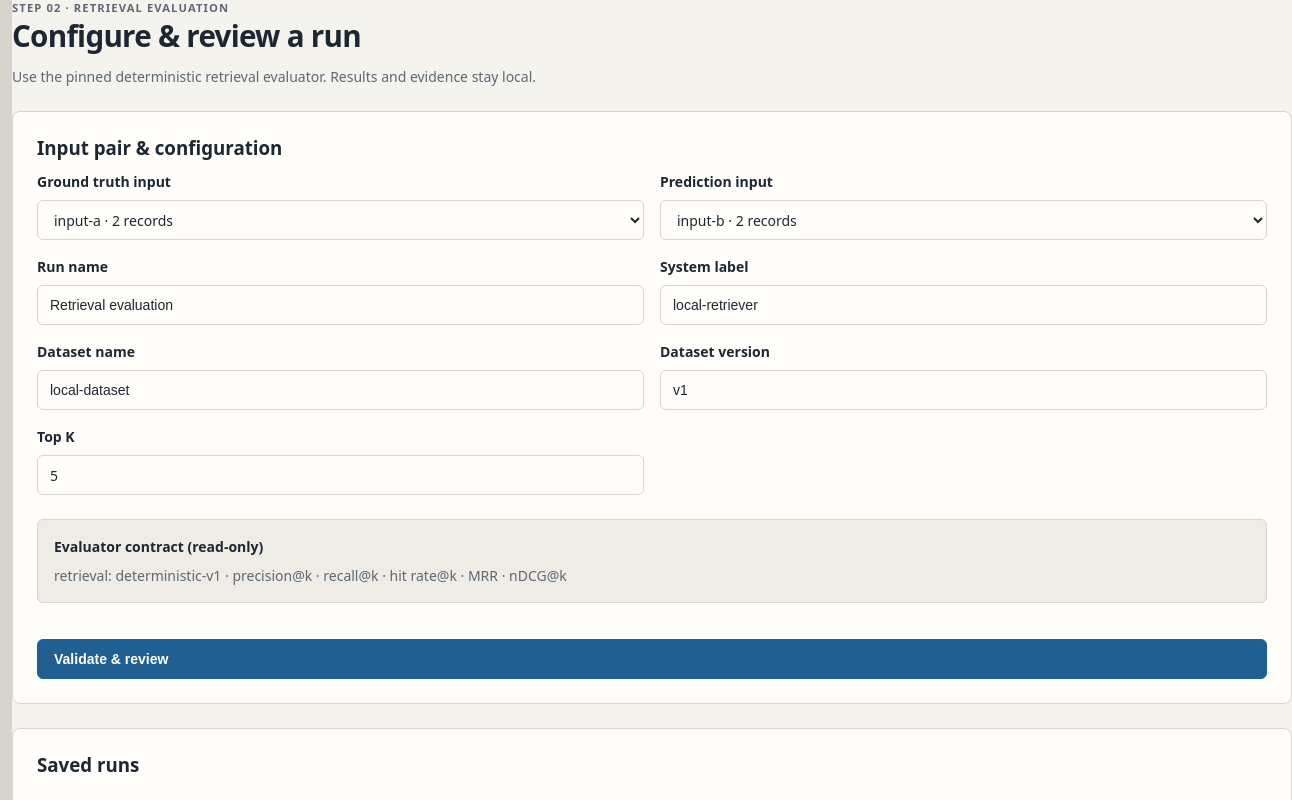
Constrained run review › does not permit execution when pair validation contains blockers
Click the button "Validate & review".
click(111, 659)  # box [37,639,1267,679]
(page scrolled)
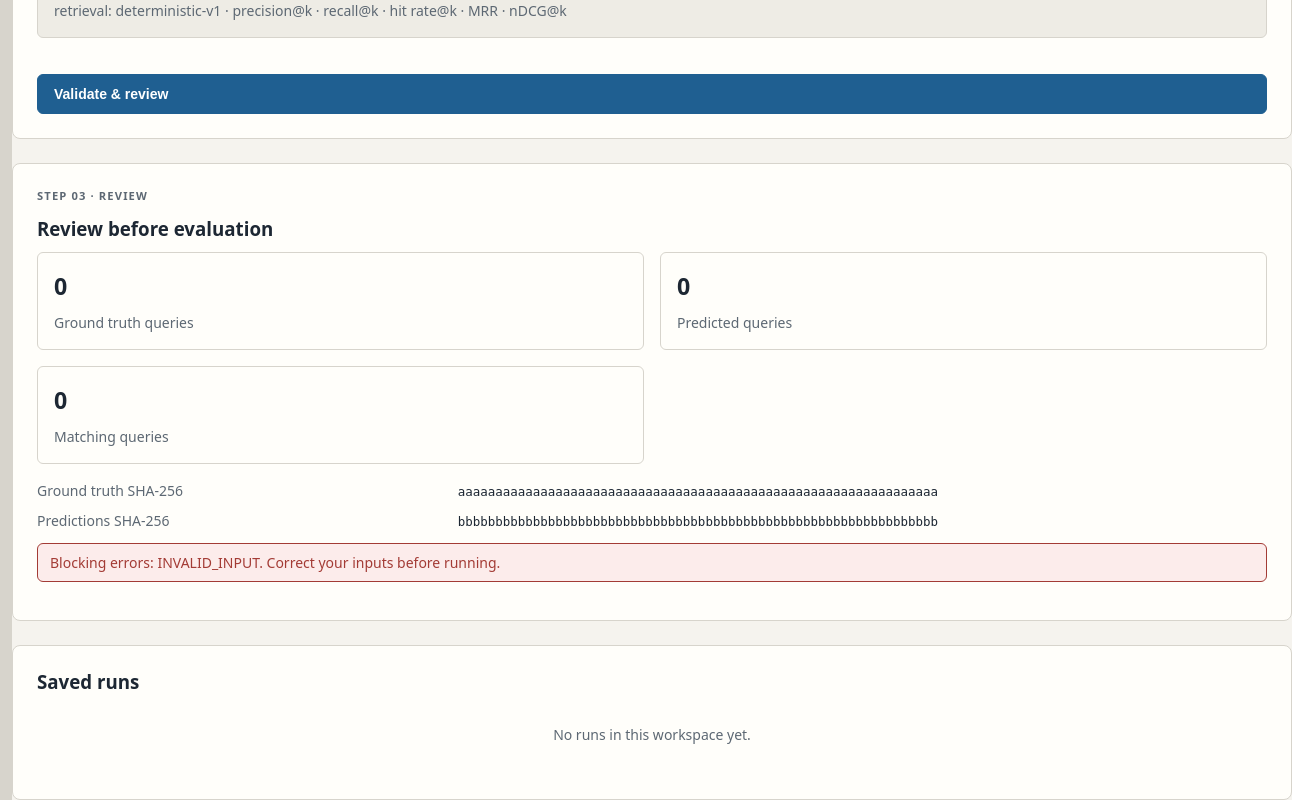
Result: the message shows "INVALID_INPUT" at [157,553,259,572]
